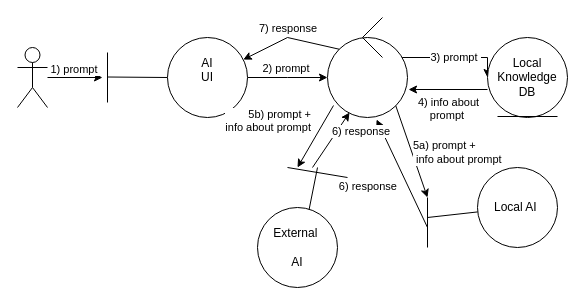
This 585x305 diagram has some shape labels left out. Here are the shapes that lost their labels. From the top down, the centre of each, then its label:
At (32,77): "Actor".
At (367,77): "AI Control".
